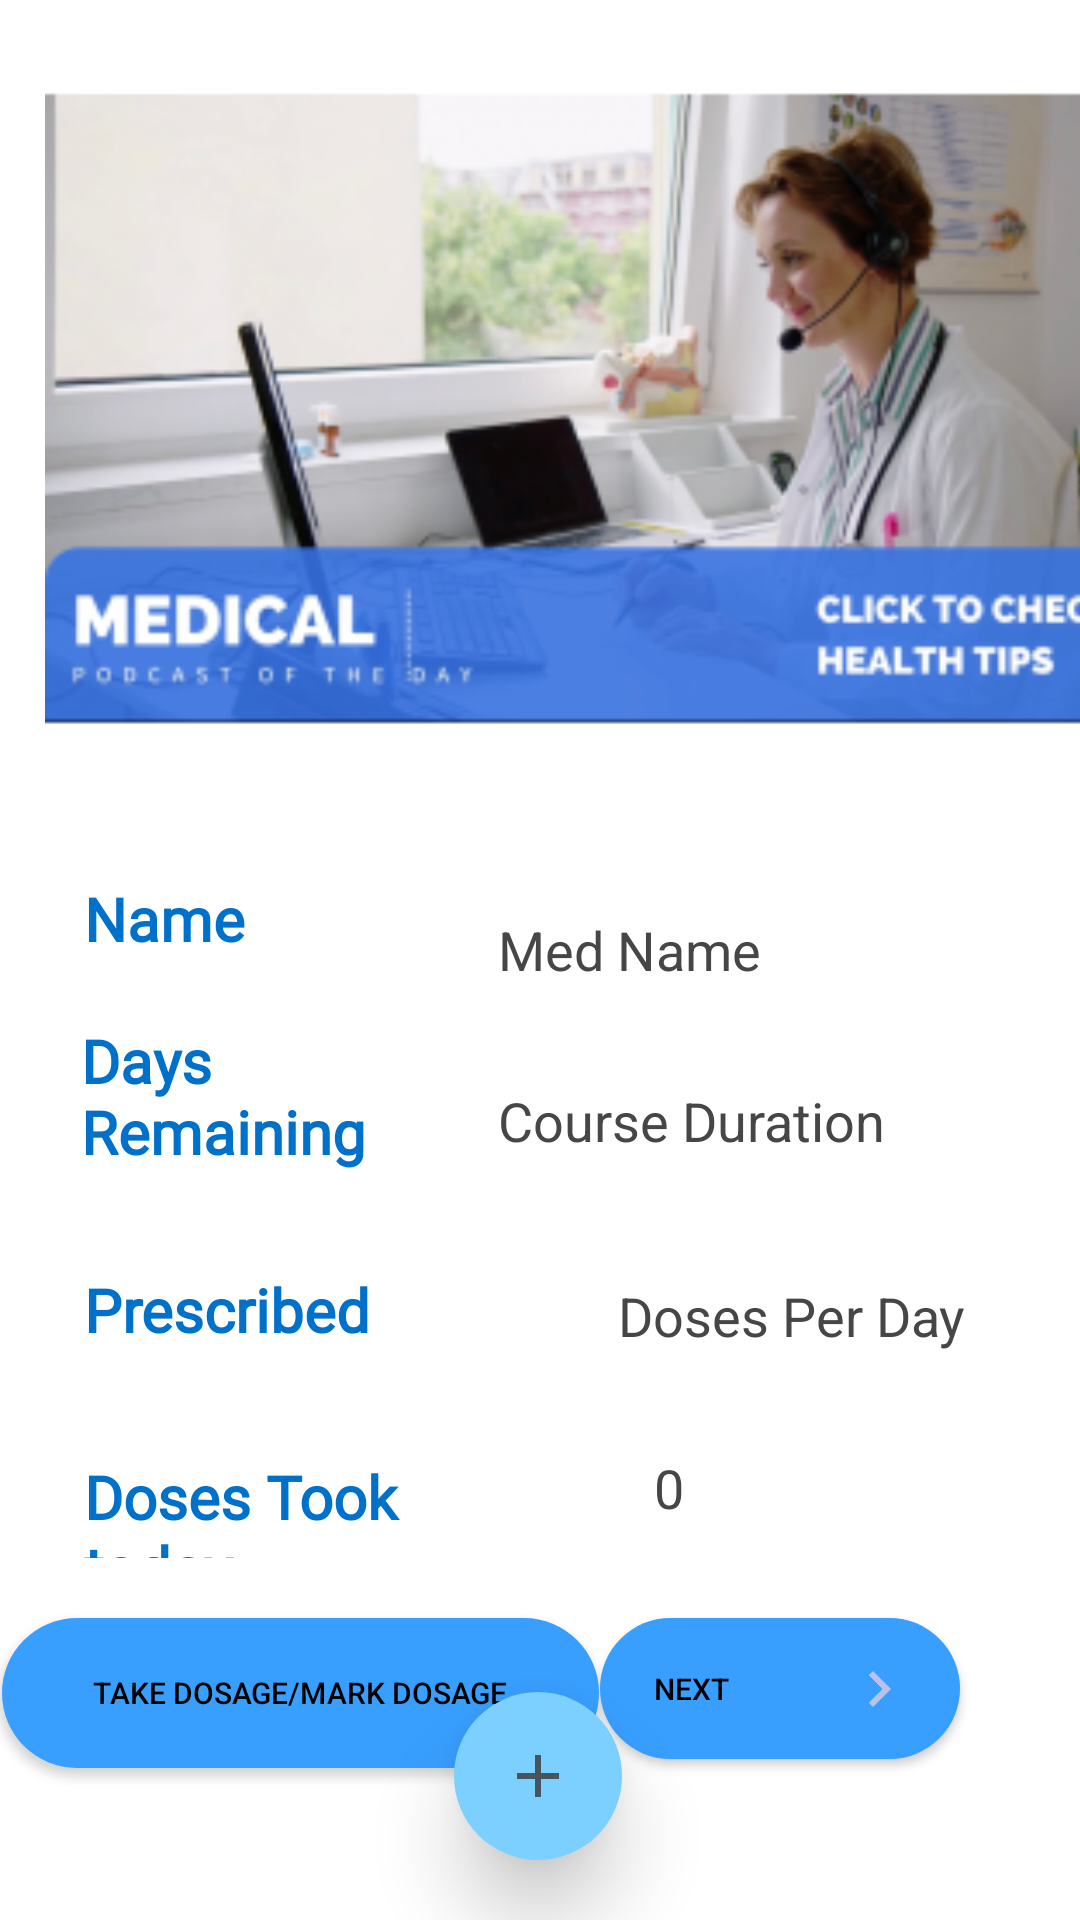

Icons on this 1080×1920 Android screen, each with the point to tap as [x,y]:
add: [538,1776]
